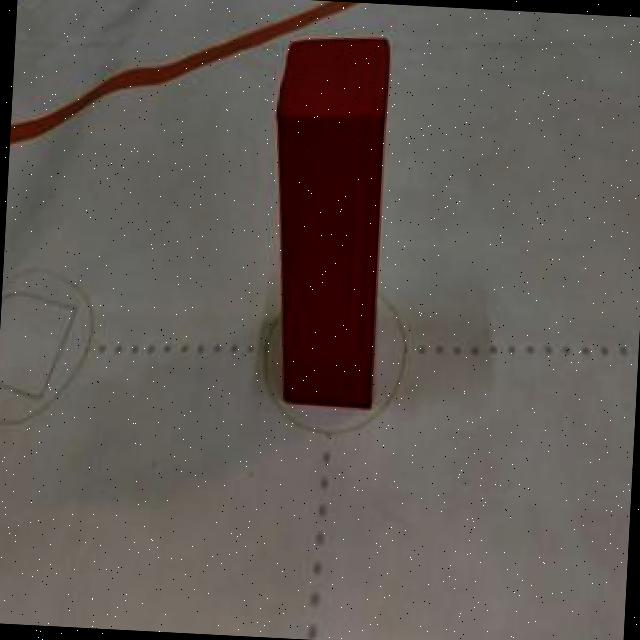redbox: (260, 26, 394, 408)
